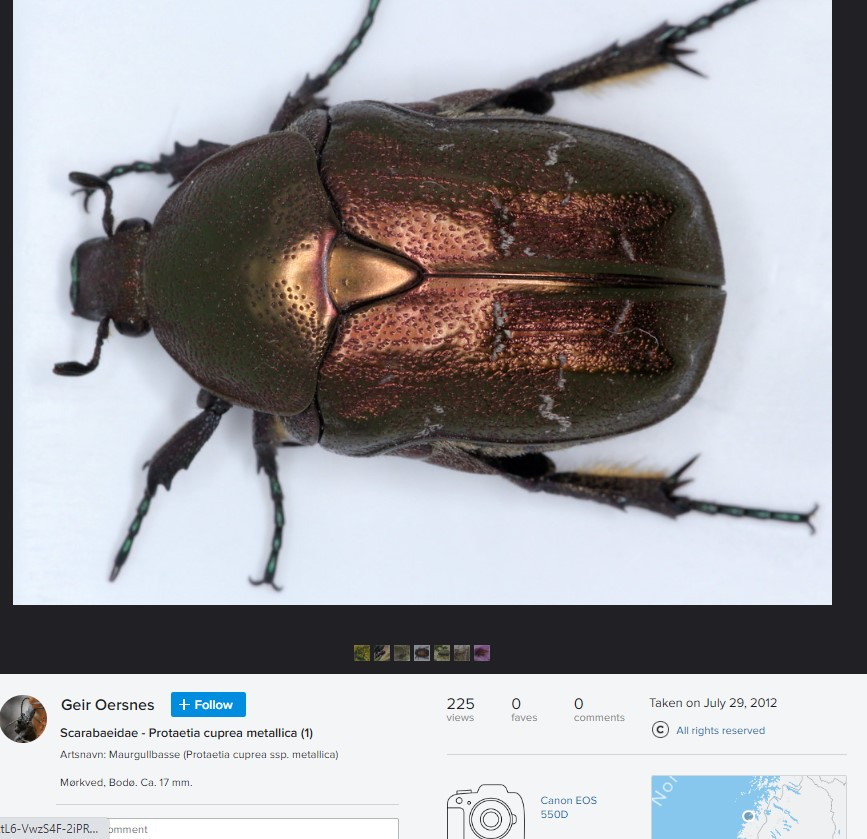Protaetia_metallica: (25, 7, 821, 577)
